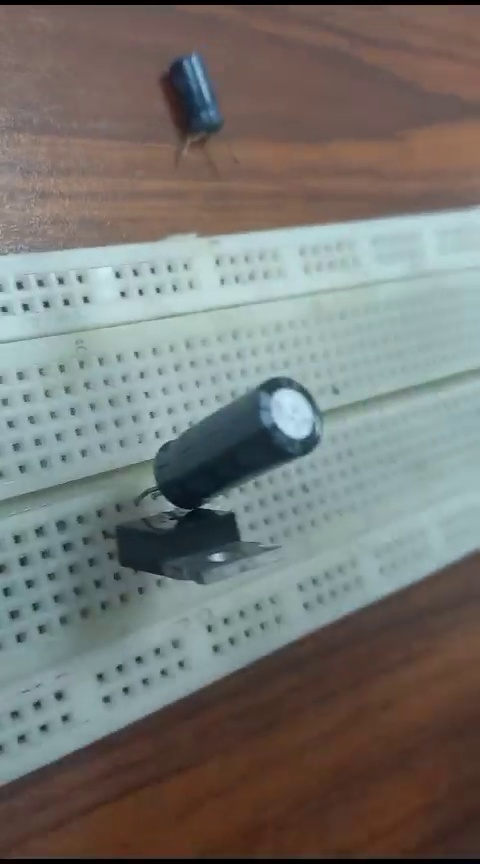capacitor: (150, 376, 334, 499), (148, 45, 239, 172)
voltage regulator: (111, 499, 283, 587)
